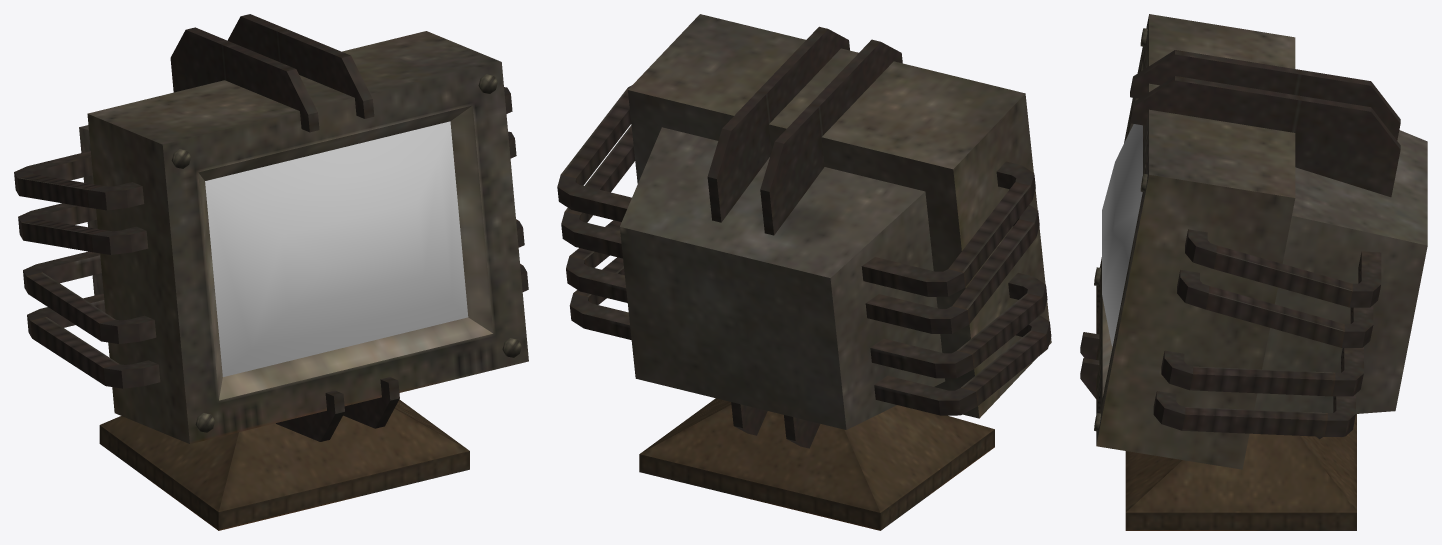
Rendered from screen_etx_1_stand.dae.
The picture shows the model from 3 angles, left to right: view 1: azimuth 30°, elevation 25°; view 2: azimuth 150°, elevation 25°; view 3: azimuth 270°, elevation 25°; orthographic projection. The views are drawn at different scales.
Visible parts, largest first — view 1: screen_etx_1_whole, screen_etx_1_whole_round_screen, screen_etx_1_stand; view 2: screen_etx_1_whole, screen_etx_1_stand; view 3: screen_etx_1_whole, screen_etx_1_stand, screen_etx_1_whole_round_screen.
Part boxes in pixels (bbox=[...]): screen_etx_1_whole: bbox=[14, 14, 528, 443]; screen_etx_1_whole_round_screen: bbox=[205, 121, 468, 376]; screen_etx_1_stand: bbox=[99, 399, 469, 530]; screen_etx_1_whole: bbox=[557, 14, 1051, 448]; screen_etx_1_stand: bbox=[639, 398, 994, 530]; screen_etx_1_whole: bbox=[1080, 14, 1427, 469]; screen_etx_1_stand: bbox=[1125, 414, 1356, 530]; screen_etx_1_whole_round_screen: bbox=[1102, 124, 1142, 346].
Bounding box in the file's own units: 0.468 × 0.3454 × 0.4455.
